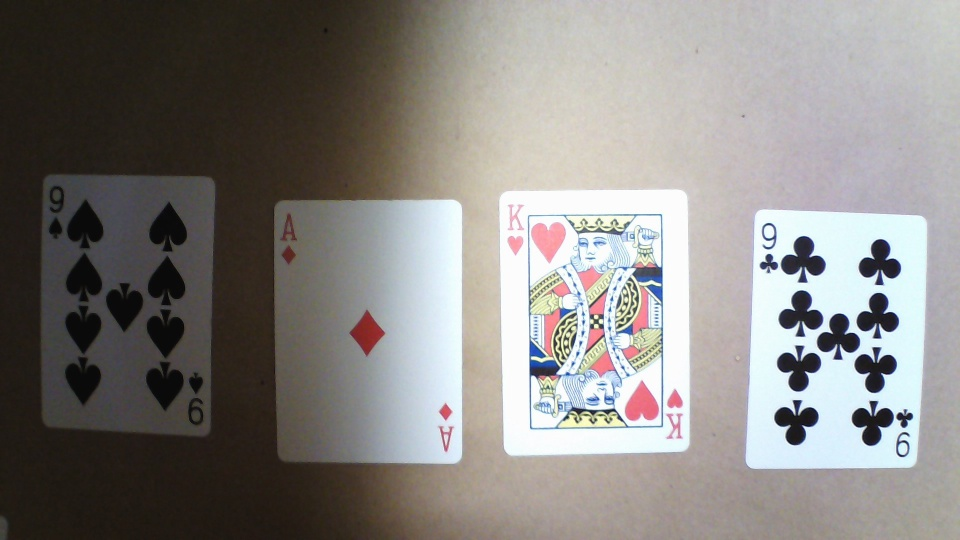ace: (269, 196, 465, 467)
king: (497, 189, 692, 457)
nine: (744, 208, 928, 472), (39, 172, 214, 438)
